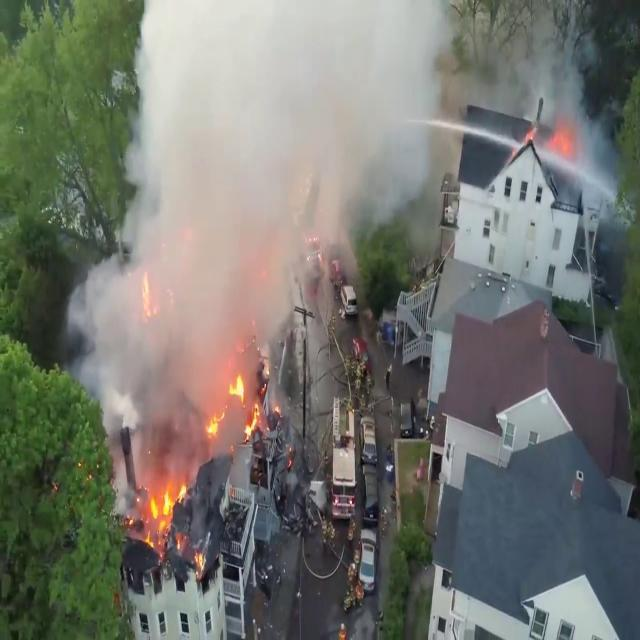Fire: (204, 368, 276, 446), (140, 474, 188, 546)
Smoke: (64, 0, 462, 427), (516, 15, 616, 232)
